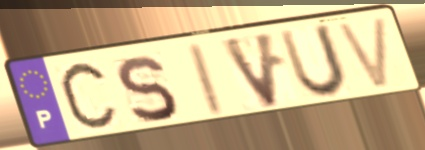C: (55, 57, 122, 137)
I: (187, 40, 229, 120)
S: (113, 53, 180, 126)
U: (275, 21, 352, 101)
V: (216, 29, 284, 112), (333, 14, 394, 93)
